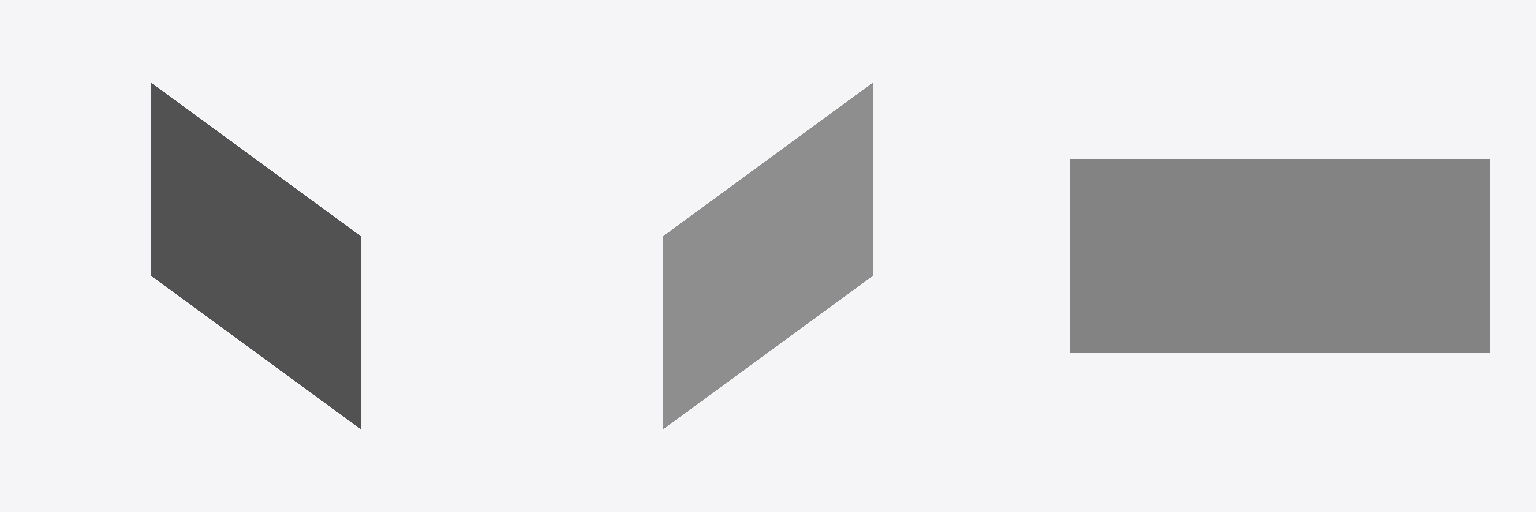
The model's file is plain5.obj.
The picture shows the model from 3 angles: view 1: azimuth 30°, elevation 25°; view 2: azimuth 150°, elevation 25°; view 3: azimuth 270°, elevation 25°; orthographic projection.
Visible parts, largest first — view 1: mesh01; view 2: mesh01; view 3: mesh01.
Boxes of the visible parts, box(x1,y1,x2,y2) form: mesh01: box(151, 83, 360, 428); mesh01: box(663, 83, 872, 428); mesh01: box(1070, 159, 1489, 352).
Bounding box in the file's own units: 0 × 201 × 396.